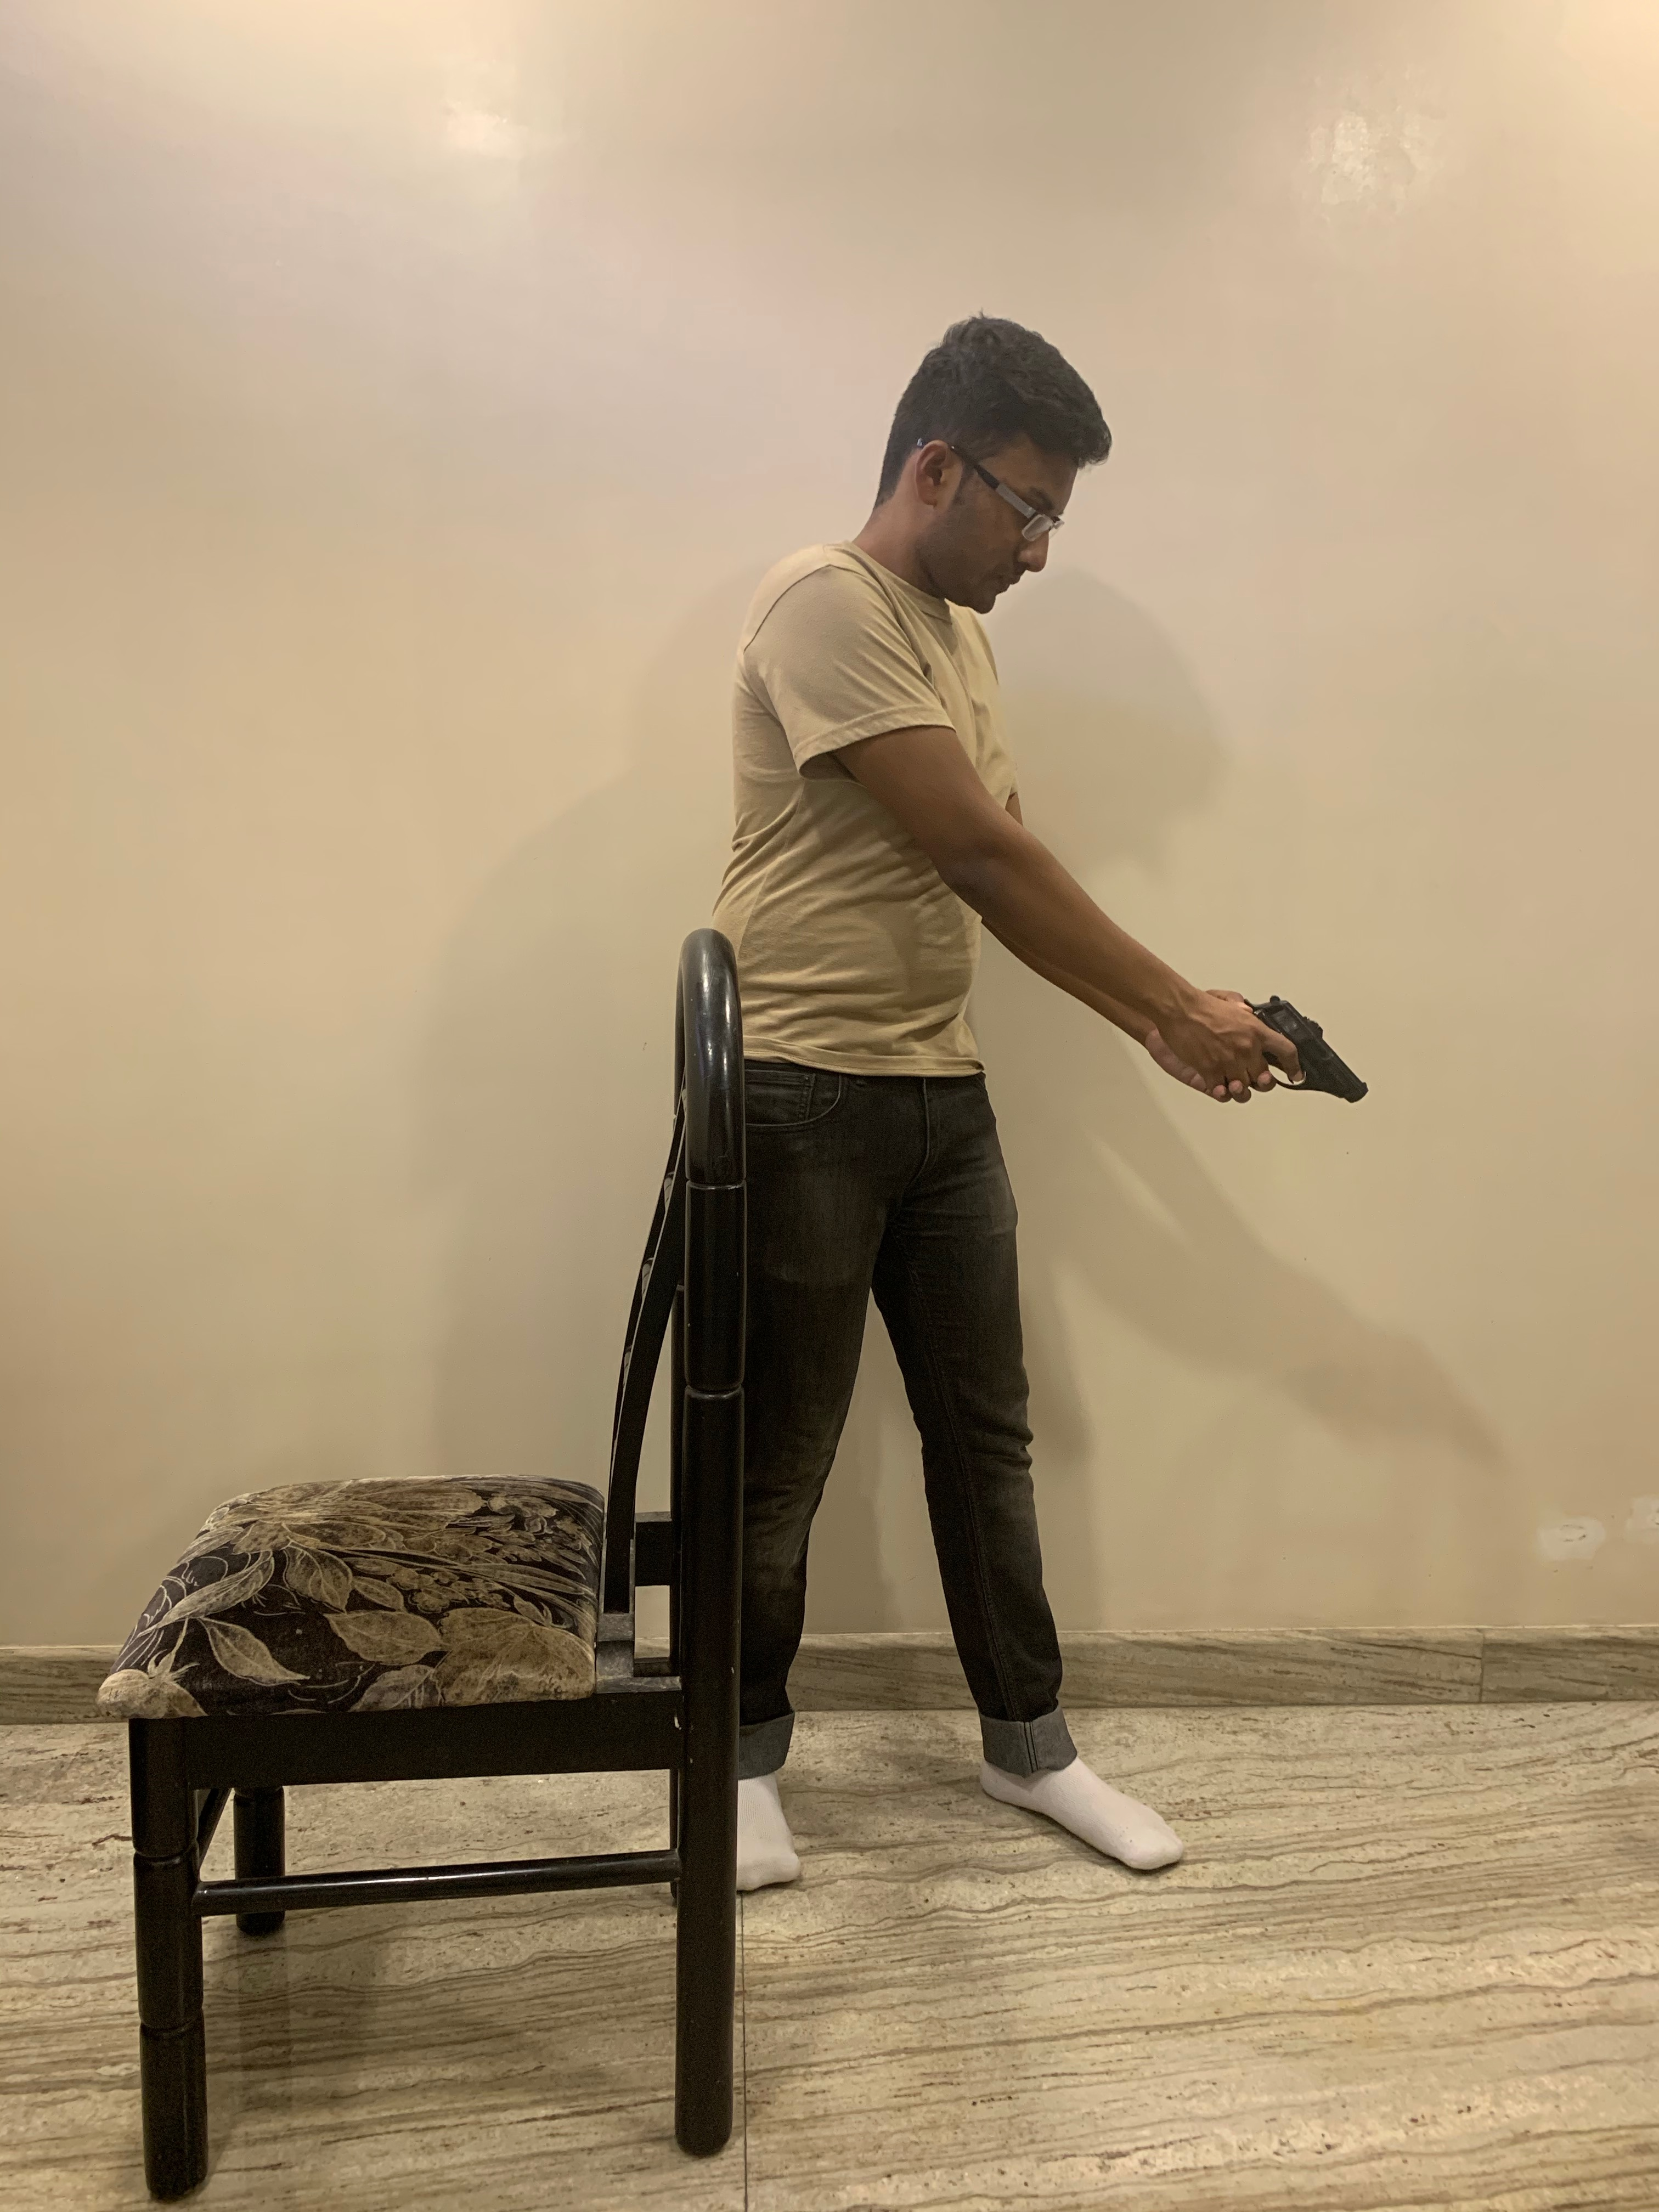gun: (1220, 981, 1368, 1132)
